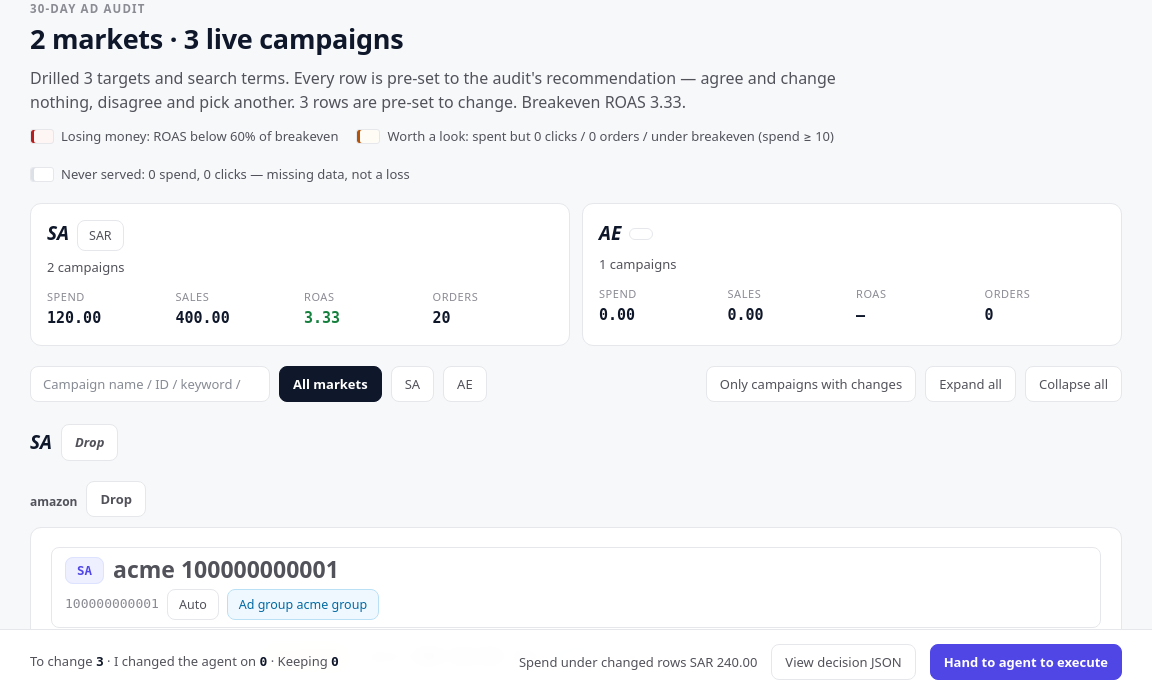
a bid move that changes nothing is not an instruction › blocks submit when the new bid equals the current one
Step 1. Click the button that starts with "acme 100000000001" → [85, 570], box x1=51 y1=547 x2=1101 y2=628
(page scrolled)
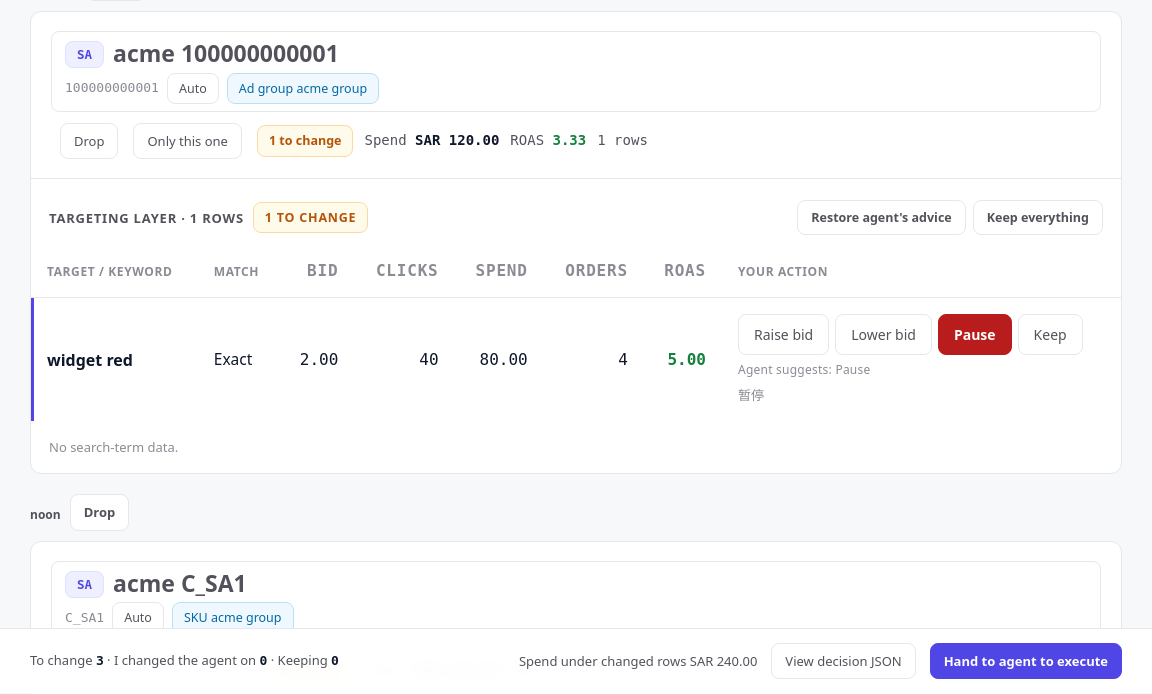
Step 2. Click the button "Raise bid" → [784, 335], box x1=738 y1=314 x2=829 y2=355
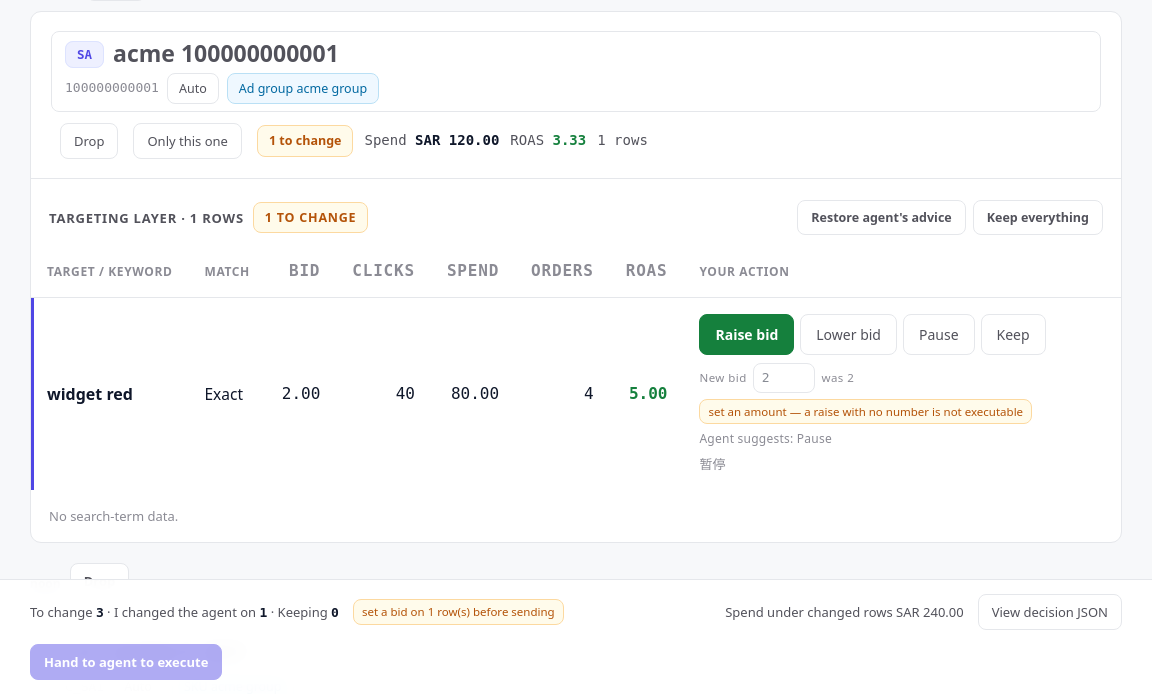
Step 3. Type "2.00" into the number field named "New bid" → [784, 378], box x1=753 y1=363 x2=815 y2=393
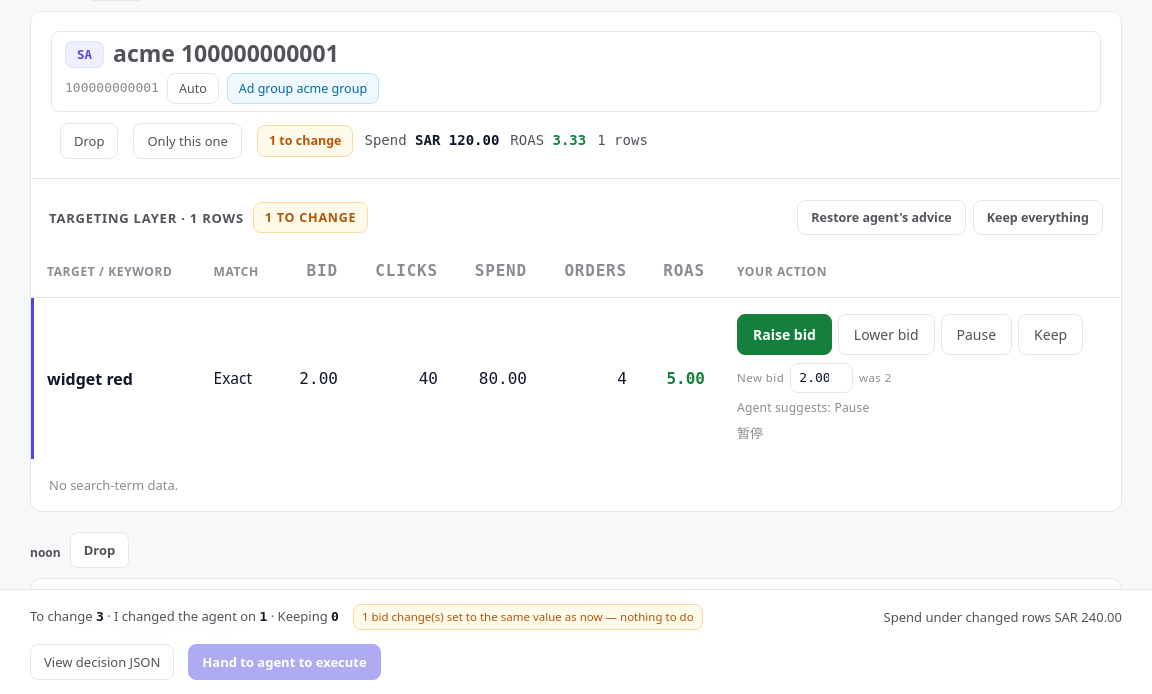
Now the button "Hand to agent to execute" is disabled, box x1=188 y1=644 x2=381 y2=680
Now the text "1 bid change(s) set to the same value as now — nothing to do" is shown, box x1=353 y1=604 x2=703 y2=630
Step 4. Replace the text in the number field named "New bid" with "2.20" → [822, 378], box x1=790 y1=363 x2=853 y2=393
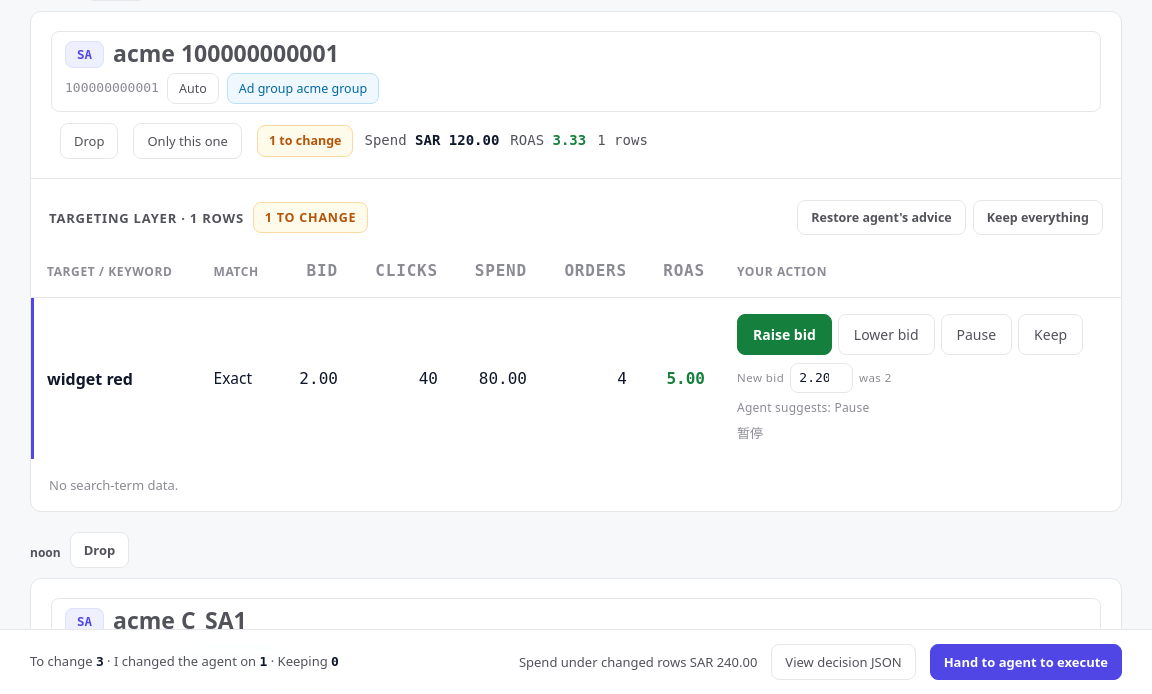
Now the button "Hand to agent to execute" is enabled, box x1=930 y1=644 x2=1122 y2=680
